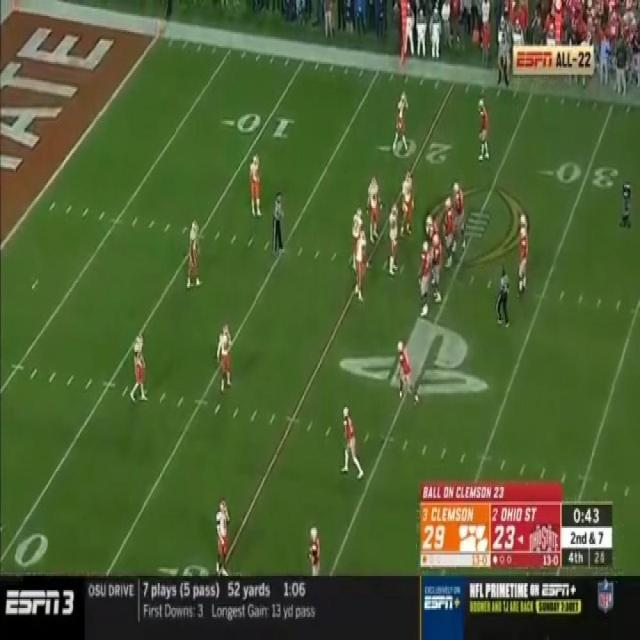center: (426, 213, 438, 240)
db: (183, 223, 200, 287), (131, 337, 145, 405), (216, 506, 230, 561), (247, 158, 263, 206), (218, 329, 234, 377)
lb: (370, 178, 380, 236), (354, 208, 364, 229)
qb: (520, 224, 529, 286)
